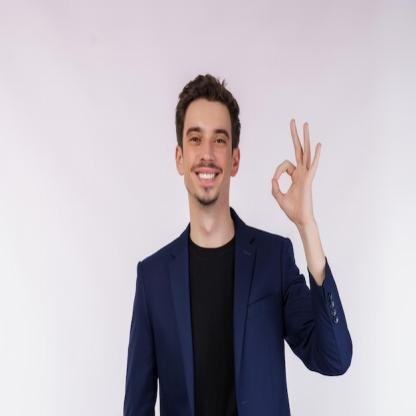ok: (269, 113, 324, 224)
